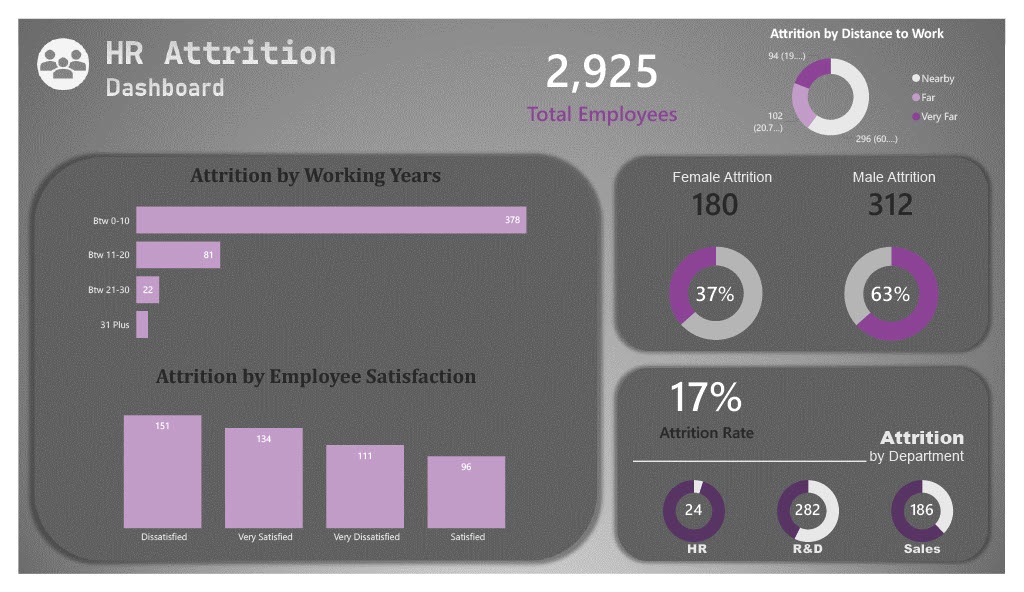

The page's visual inventory and layout, read from the dashboard file:
{"tool":"powerbi","page":{"name":"Emp. Satisfaction Attrition","canvas":[1280,720],"ordinal":0},"visuals":[{"type":"card","fields":{"Values":["All Measures.Total Employees"]},"box":[619.2,6.5,276.2,149.2],"z":0},{"type":"donutChart","title":"Attrition by Distance to Work","fields":{"Category":["Data.Distance Status"],"Y":["All Measures.Total Attrition"]},"box":[942.5,6.5,289.3,166.3],"z":1000},{"type":"clusteredBarChart","title":"Attrition by Working Years","fields":{"Y":["All Measures.Total Attrition"],"Category":["Data.Working Years Group"]},"box":[79.9,187.2,611.3,251.3],"z":2000},{"type":"columnChart","title":"Attrition by Employee Satisfaction","fields":{"Category":["Data.Job Satisfaction Status"],"Y":["All Measures.Total Attrition"]},"box":[78.5,447.7,614,243.5],"z":3000},{"type":"card","fields":{"Values":["All Measures.% Attrition"]},"box":[797.2,449,191.1,100.8],"z":4000},{"type":"donutChart","fields":{"Y":["All Measures.HR Department","All Measures.Remaining Hr"]},"box":[801.2,583.9,150,110],"z":5000},{"type":"donutChart","fields":{"Y":["All Measures.Sales Department","All Measures.Remaining Sales"]},"box":[1097,583.9,150,110],"z":6000},{"type":"donutChart","fields":{"Y":["All Measures.R&D Department","All Measures.Remaining R&D"]},"box":[949.1,583.9,150,110],"z":7000},{"type":"donutChart","fields":{"Category":["Data.Gender"],"Y":["All Measures.Total Attrition"]},"box":[797.4,275.9,214.7,161],"z":8000},{"type":"donutChart","fields":{"Category":["Data.Gender"],"Y":["All Measures.Total Attrition"]},"box":[1023.8,275.9,216,162.3],"z":9000},{"type":"card","fields":{"Values":["All Measures.HR Department"]},"box":[848.3,620.5,55,35.3],"z":10000},{"type":"card","fields":{"Values":["All Measures.R&D Department"]},"box":[996.2,620.5,55,35.3],"z":11000},{"type":"card","fields":{"Values":["All Measures.Sales Department"]},"box":[1144.1,620.5,55,35.3],"z":12000},{"type":"textbox","box":[848.3,670.3,64.1,41.9],"z":13000},{"type":"textbox","box":[990.7,671,64.8,41.8],"z":14000},{"type":"textbox","box":[1136.2,671,72,41.8],"z":15000},{"type":"textbox","box":[1099.6,521,144,51.1],"z":16000},{"type":"textbox","box":[1074.8,552.4,180.7,41.9],"z":17000},{"type":"shape","box":[797.2,555.1,302.4,39.3],"z":18000},{"type":"card","fields":{"Values":["All Measures.% Male Attrition"]},"box":[1081.4,334.5,99.4,44.6],"z":19000},{"type":"card","fields":{"Values":["All Measures.% Female Attrition"]},"box":[853.9,334.5,99.4,44.6],"z":20000},{"type":"textbox","box":[822.2,189.6,181.4,41.8],"z":21000},{"type":"textbox","box":[1045.4,189.6,181.4,41.8],"z":22000},{"type":"card","fields":{"Values":["All Measures.Total Attrition"]},"box":[853.9,217,99.4,44.6],"z":23000},{"type":"card","fields":{"Values":["All Measures.Total Attrition"]},"box":[1081.4,217,99.4,44.6],"z":24000}]}

Visuals, with their boxes in screenshot pixels (x1, y1, x2, y2), scaled from the page's 1280x720 canvas onto the 1024x592 screenshot:
card - All Measures.Total Employees: box=[495, 5, 716, 128]
"Attrition by Distance to Work" donutChart: box=[754, 5, 985, 142]
"Attrition by Working Years" clusteredBarChart: box=[64, 154, 553, 361]
"Attrition by Employee Satisfaction" columnChart: box=[63, 368, 554, 568]
card - All Measures.% Attrition: box=[638, 369, 791, 452]
donutChart - All Measures.HR Department x All Measures.Remaining Hr: box=[641, 480, 761, 571]
donutChart - All Measures.Sales Department x All Measures.Remaining Sales: box=[878, 480, 998, 571]
donutChart - All Measures.R&D Department x All Measures.Remaining R&D: box=[759, 480, 879, 571]
donutChart - Data.Gender x All Measures.Total Attrition: box=[638, 227, 810, 359]
donutChart - Data.Gender x All Measures.Total Attrition: box=[819, 227, 992, 360]
card - All Measures.HR Department: box=[679, 510, 723, 539]
card - All Measures.R&D Department: box=[797, 510, 841, 539]
card - All Measures.Sales Department: box=[915, 510, 959, 539]
textbox: box=[679, 551, 730, 586]
textbox: box=[793, 552, 844, 586]
textbox: box=[909, 552, 967, 586]
textbox: box=[880, 428, 995, 470]
textbox: box=[860, 454, 1004, 489]
shape: box=[638, 456, 880, 489]
card - All Measures.% Male Attrition: box=[865, 275, 945, 312]
card - All Measures.% Female Attrition: box=[683, 275, 763, 312]
textbox: box=[658, 156, 803, 190]
textbox: box=[836, 156, 981, 190]
card - All Measures.Total Attrition: box=[683, 178, 763, 215]
card - All Measures.Total Attrition: box=[865, 178, 945, 215]
